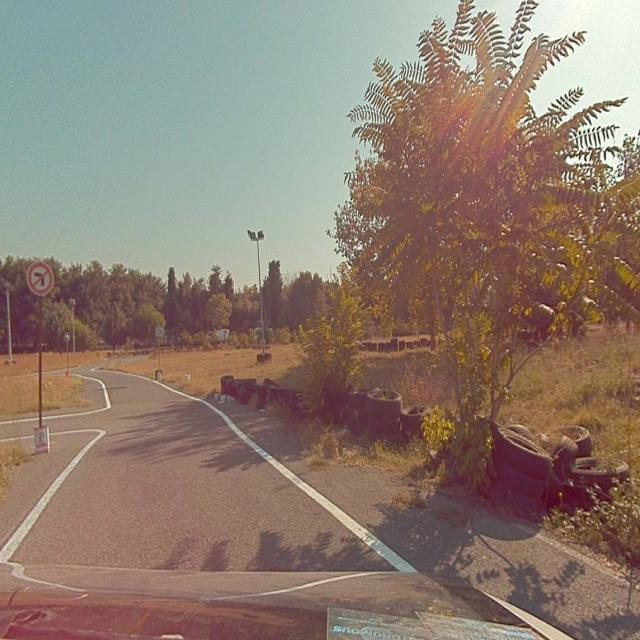durak: (156, 327, 161, 336)
soladonulmez: (26, 263, 53, 295)
